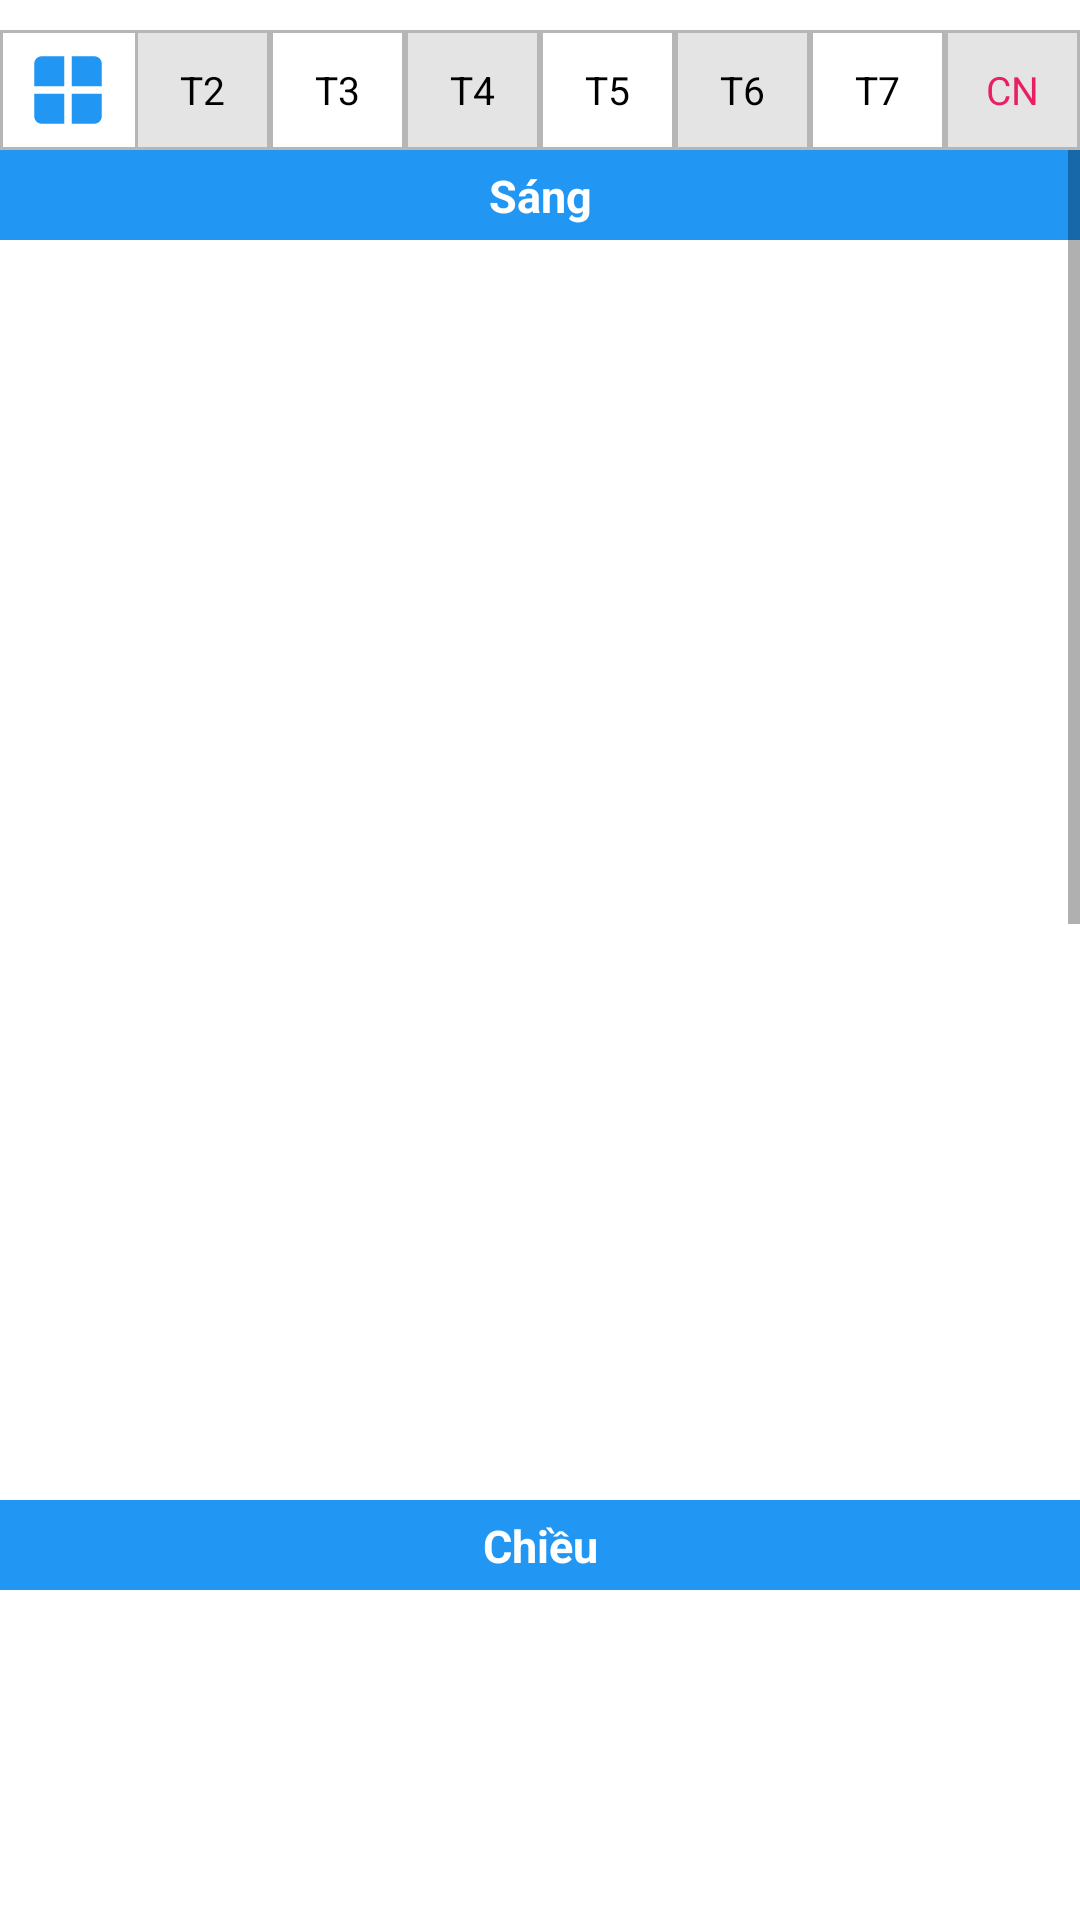

Screen size 1080px x 1920px. Icon name, then its center in pixels as [x,y]:
window: [67,90]
